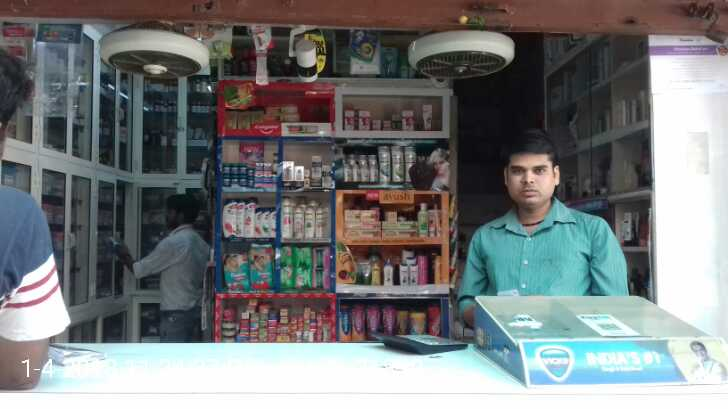vicks: (223, 161, 277, 186)
